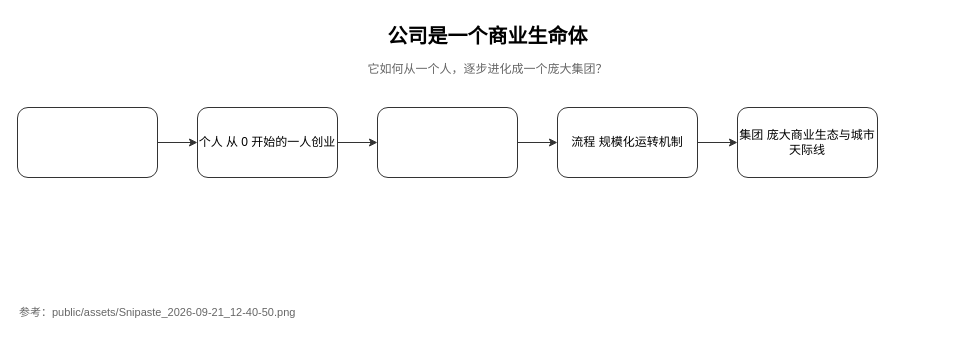
Some shapes in this 975 by 338 pixel diagram are drawn without their labels. Each missing label, with the centre of its shape:
根基 客户 · 现金流 · 价值: (87,142)
组织 小团队与办公协作: (447,142)
